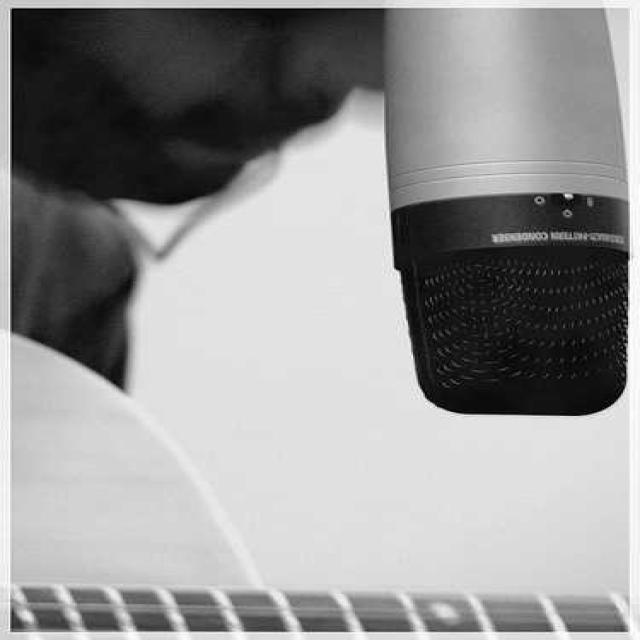microphone: (391, 9, 634, 419)
